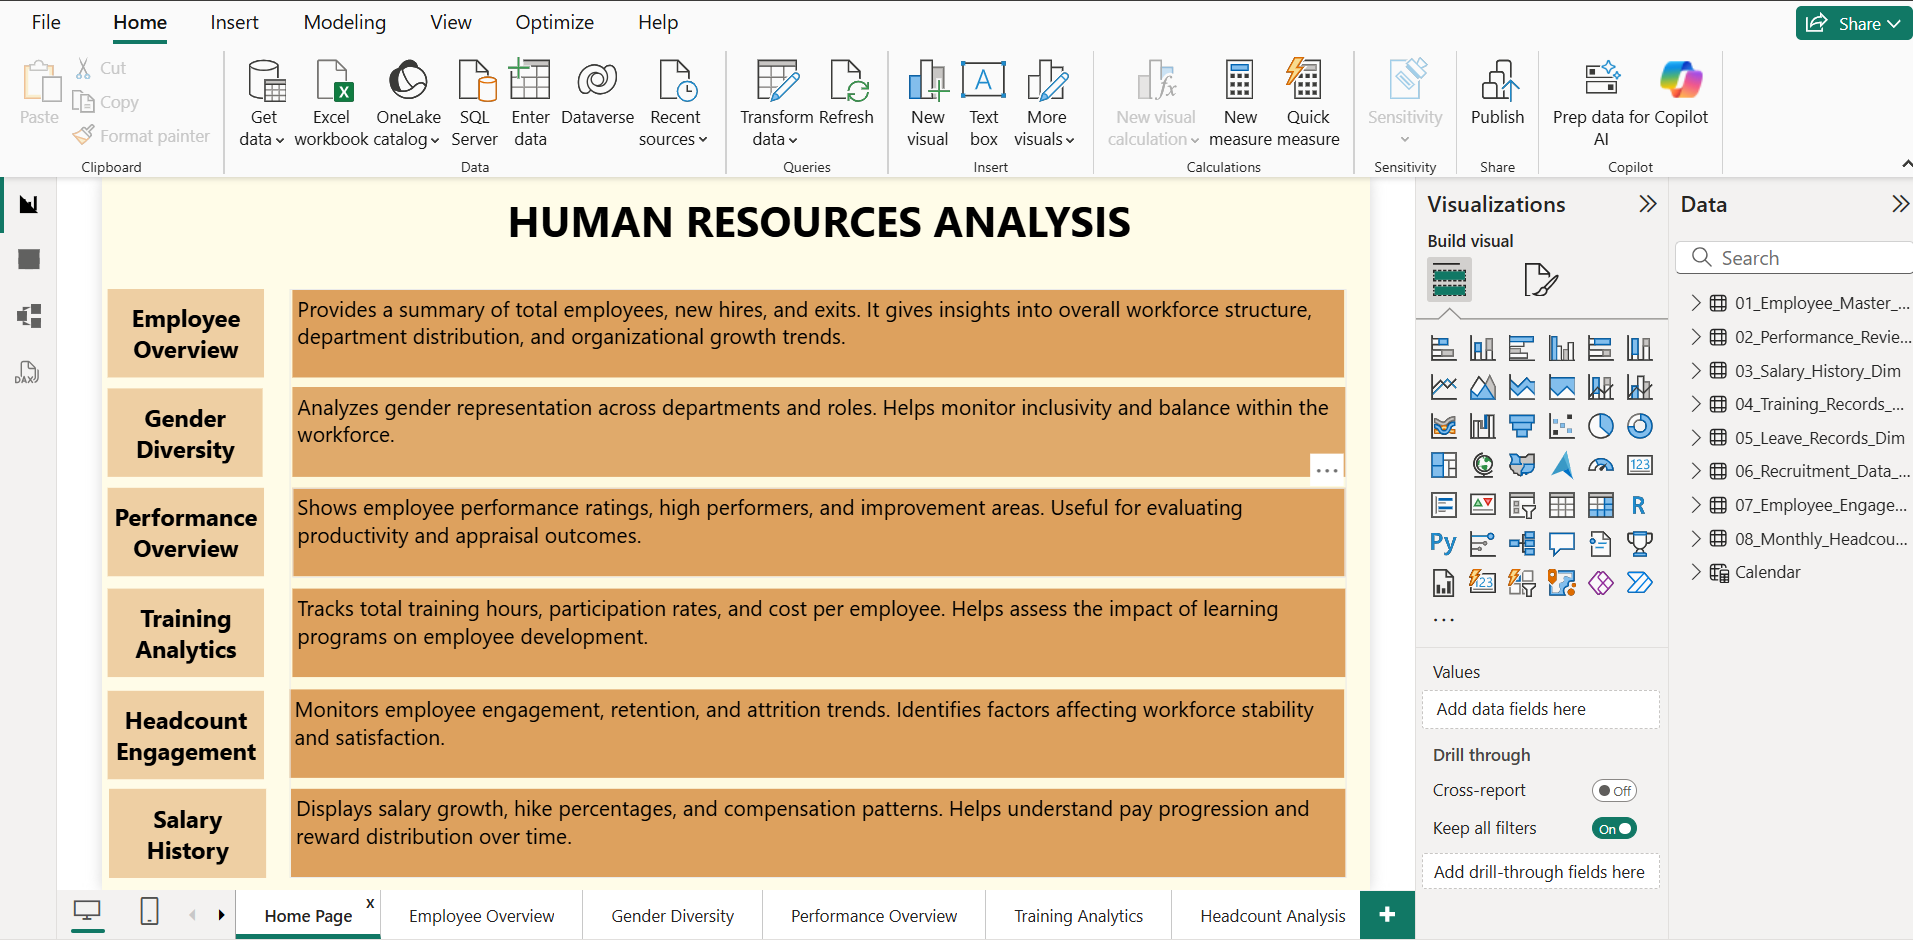

Layout of this report page (visuals, bound fields, positions):
{"tool":"powerbi","page":{"name":"Home Page","canvas":[1280,720],"ordinal":0},"visuals":[{"type":"textbox","box":[192.9,10.2,1060.8,88],"z":0},{"type":"actionButton","box":[5.1,113.4,158,88.9],"z":0,"group":"g1"},{"type":"actionButton","box":[5.1,213.1,156.6,88.9],"z":1000,"group":"g1"},{"type":"group","id":"g1","title":"Menu Buttons","box":[5.1,113.4,159,593.8],"z":2000},{"type":"actionButton","box":[5.1,518.2,158,88.9],"z":2000,"group":"g1"},{"type":"textbox","box":[192.3,113.4,1061.7,89.6],"z":2500,"group":"g2"},{"type":"textbox","box":[192.3,212.6,1063.1,90.9],"z":3000,"group":"g2"},{"type":"actionButton","box":[5.1,415.5,158,88.9],"z":3000,"group":"g1"},{"type":"actionButton","box":[5.1,314.3,158,88.9],"z":4000,"group":"g1"},{"type":"textbox","box":[192.3,314.6,1063.1,89.6],"z":4000,"group":"g2"},{"type":"actionButton","box":[5.9,617.7,158.8,90],"z":5000,"group":"g1"},{"type":"textbox","box":[192.3,415.1,1063.1,89.6],"z":6000,"group":"g2"},{"type":"textbox","box":[189.5,517.1,1064.5,89.6],"z":7000,"group":"g2"},{"type":"textbox","box":[190.9,617.7,1064.5,89.6],"z":8000,"group":"g2"},{"type":"group","id":"g2","title":"Group 1","box":[189.5,113.4,1065.9,593.8],"z":8502}]}

Visuals, with their boxes on the page's 1280x720 design canvas (x1, y1, x2, y2). These are canvas units, not pixel positions in the 1913x940 screenshot, which may show the page scaled, cropped or inside an application window:
textbox: x1=193 y1=10 x2=1254 y2=98
actionButton: x1=5 y1=113 x2=163 y2=202
actionButton: x1=5 y1=213 x2=162 y2=302
"Menu Buttons" group: x1=5 y1=113 x2=164 y2=707
actionButton: x1=5 y1=518 x2=163 y2=607
textbox: x1=192 y1=113 x2=1254 y2=203
textbox: x1=192 y1=213 x2=1255 y2=304
actionButton: x1=5 y1=416 x2=163 y2=504
actionButton: x1=5 y1=314 x2=163 y2=403
textbox: x1=192 y1=315 x2=1255 y2=404
actionButton: x1=6 y1=618 x2=165 y2=708
textbox: x1=192 y1=415 x2=1255 y2=505
textbox: x1=190 y1=517 x2=1254 y2=607
textbox: x1=191 y1=618 x2=1255 y2=707
"Group 1" group: x1=190 y1=113 x2=1255 y2=707
